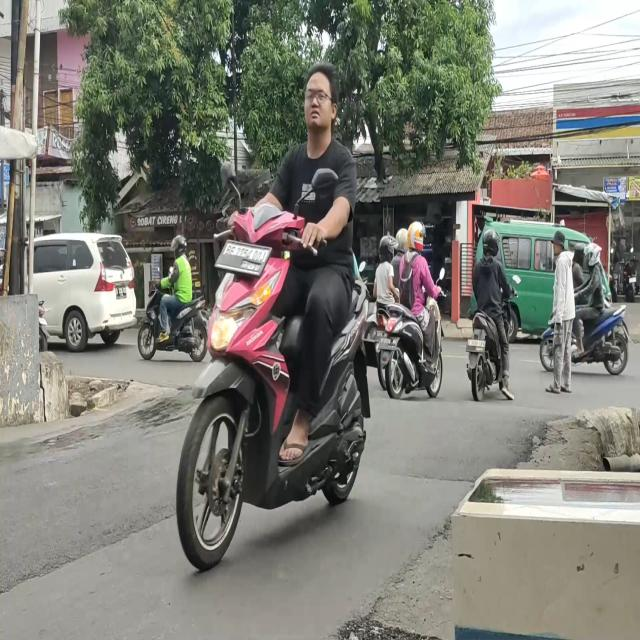helmet: (480, 227, 500, 256), (381, 235, 397, 264), (412, 221, 426, 251), (586, 243, 601, 269), (171, 234, 187, 258), (399, 229, 410, 252)
no-helmet: (303, 64, 342, 134)
